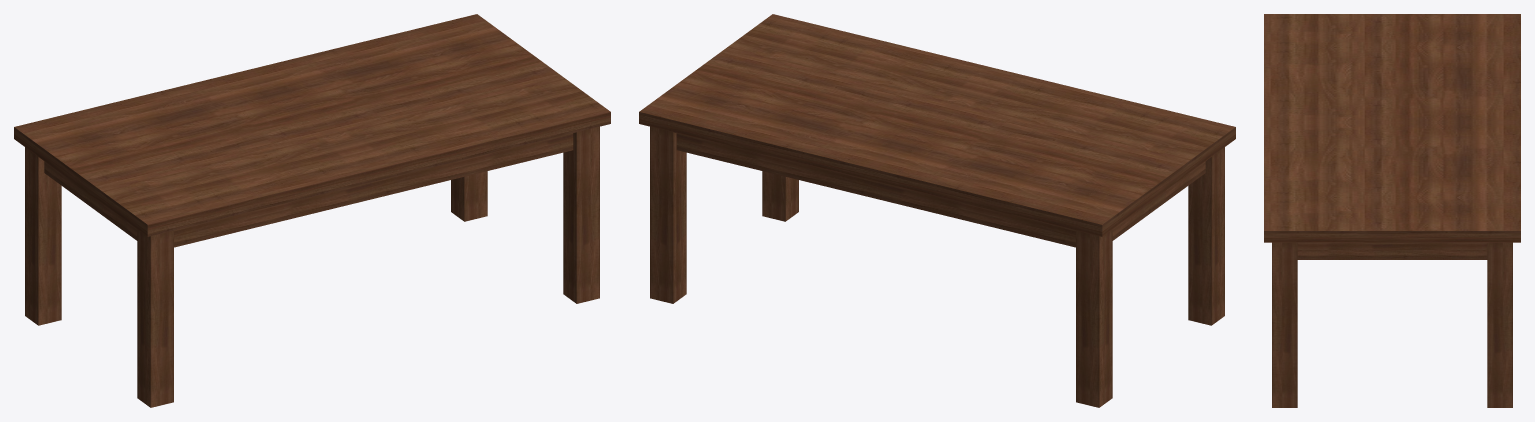
File: Table.fbx
The picture shows the model from 3 angles, left to right: view 1: azimuth 30°, elevation 25°; view 2: azimuth 150°, elevation 25°; view 3: azimuth 270°, elevation 25°; orthographic projection. The views are drawn at different scales.
Visible parts, largest first — view 1: Table; view 2: Table; view 3: Table.
Part boxes in pixels (x1,y1,x2,y2): Table: [14, 14, 610, 407]; Table: [639, 14, 1235, 407]; Table: [1264, 14, 1520, 407].
Size of the model in its own units: 200 by 77.5 by 100.
Materials: 1 (1 with a texture image).
